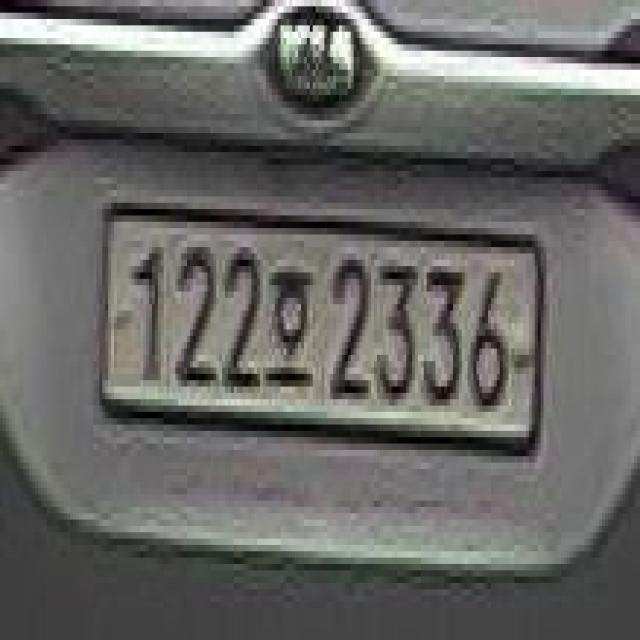illegal_plate: (96, 190, 547, 481)
